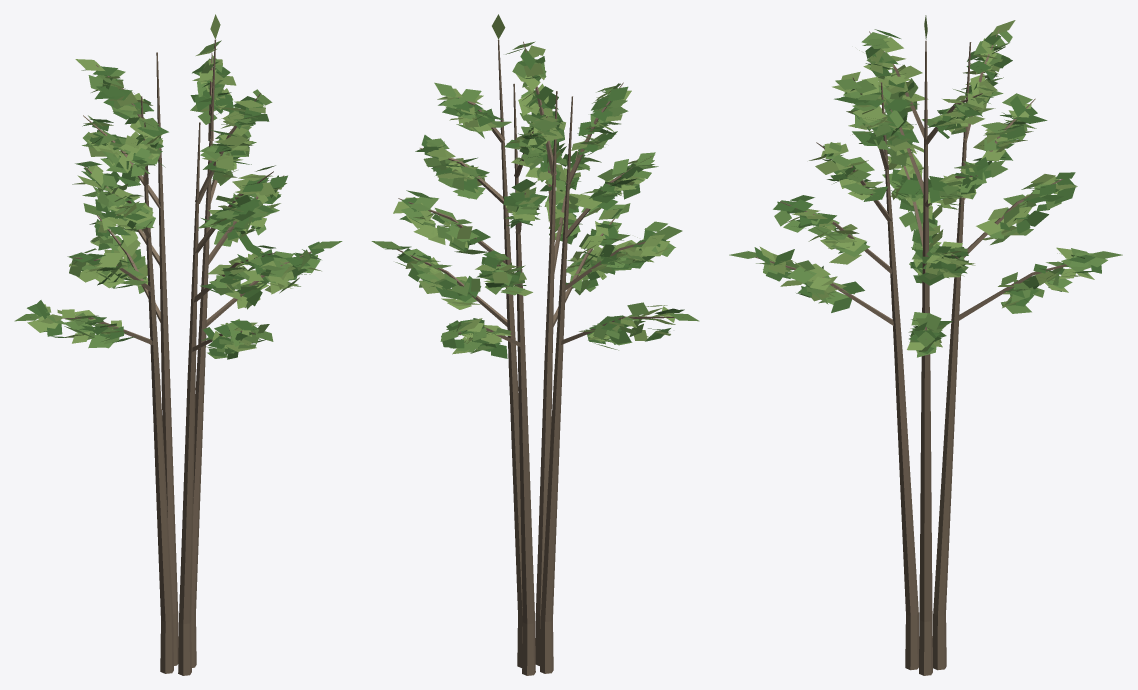
File: original-tree-deciduous.glb
3 views of the same model, side by side, from view 1: azimuth 30°, elevation 25°; view 2: azimuth 150°, elevation 25°; view 3: azimuth 270°, elevation 25° (orthographic). The views are drawn at different scales.
Visible parts, largest first — view 1: original-tree-deciduous; view 2: original-tree-deciduous; view 3: original-tree-deciduous.
Part boxes in pixels (x1,y1,x2,y2): original-tree-deciduous: (14,14,342,675); original-tree-deciduous: (371,14,699,675); original-tree-deciduous: (729,15,1122,675).
Size of the model in its own units: 1.6 by 3 by 1.6.
